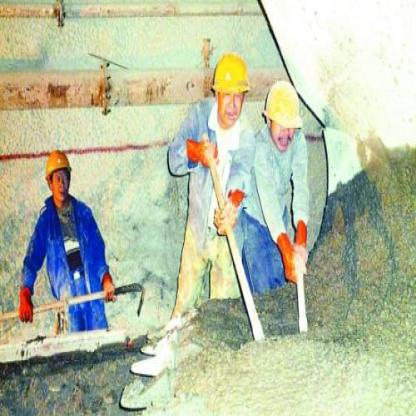helmet: (210, 47, 252, 129), (263, 78, 302, 150), (41, 146, 75, 206)
